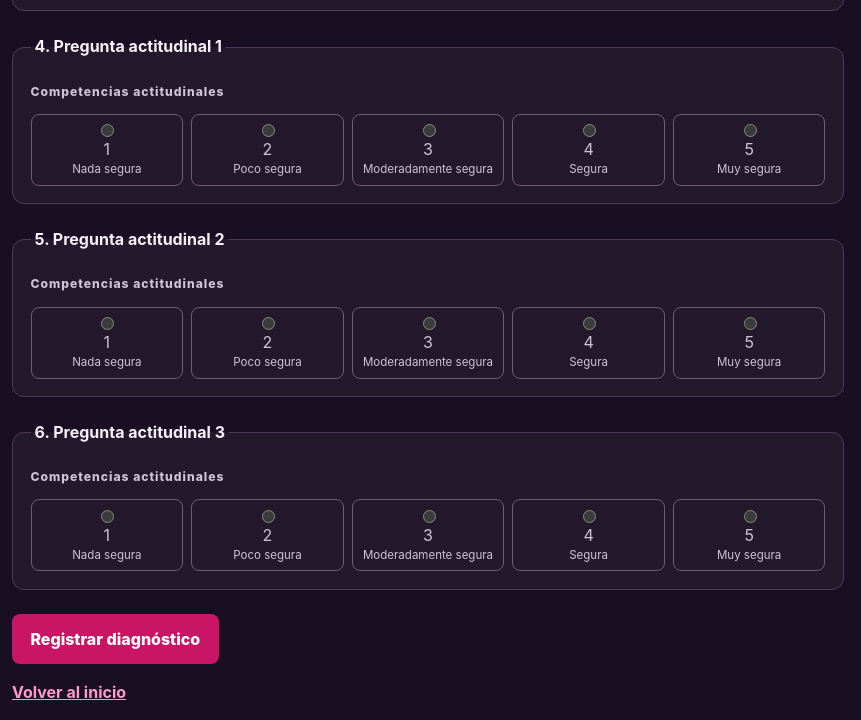
Scenario: contratos e interfaz de diagnóstico › no envía el diagnóstico cuando faltan respuestas
(page scrolled)
What coordinates should you click on to do the following:
click the button "Registrar diagnóstico"
I would click on:
 (115, 639)
Its box is [12,614,219,664].
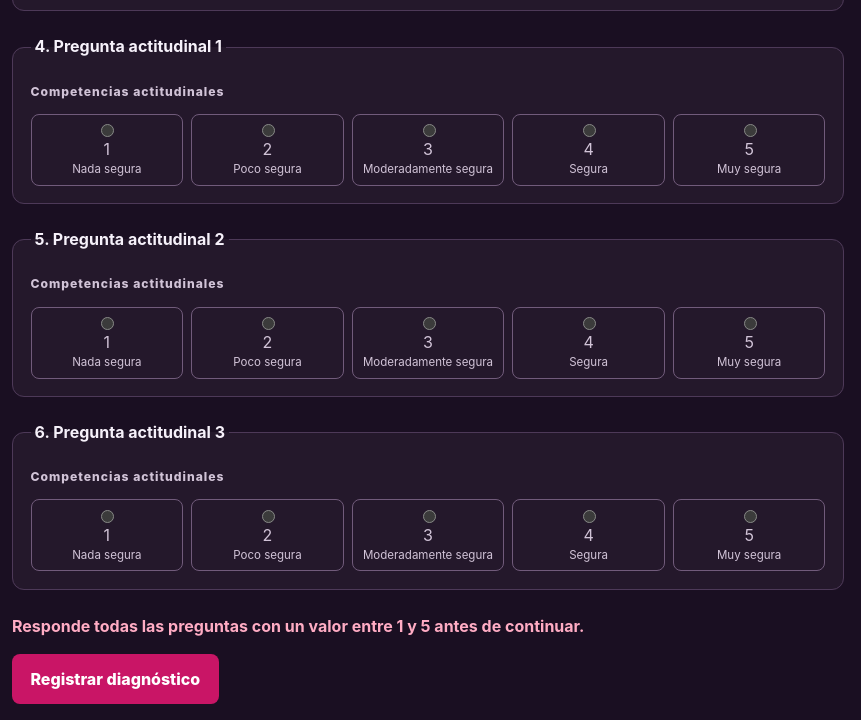
Now the text "Responde todas las preguntas con un valor entre 1 y 5 antes de continuar." is shown, box [12,616,584,636]
